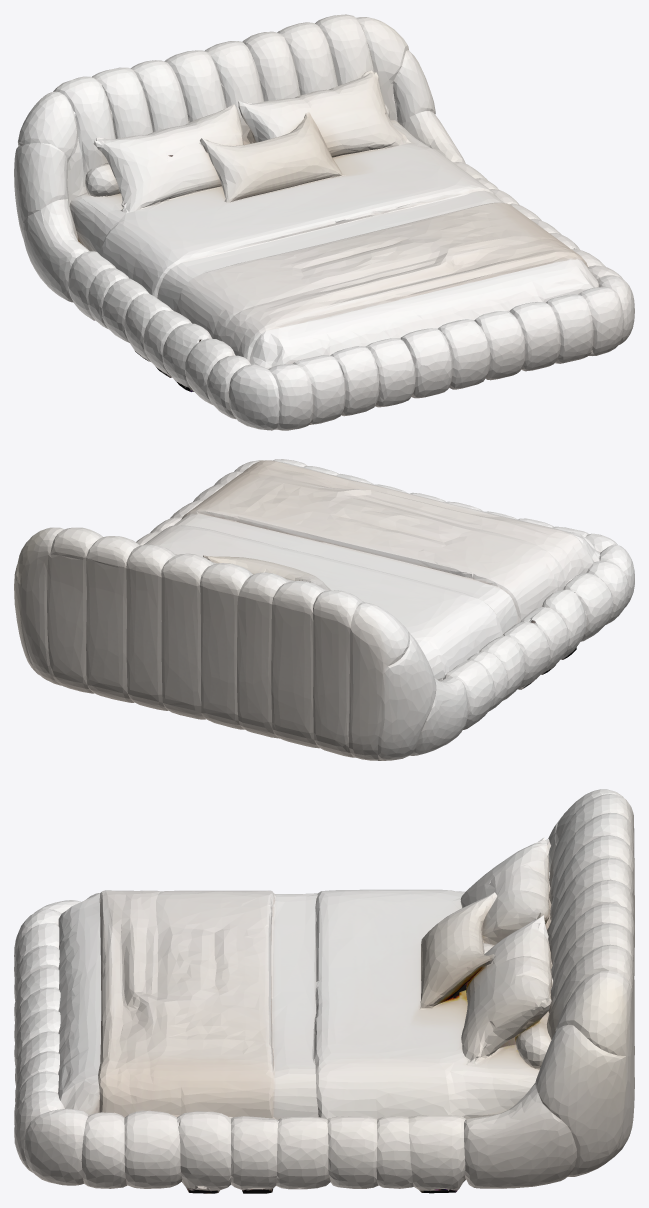
File: SALONI BASE DE CAMA.glb
3 views of the same model, one above another, from view 1: azimuth 30°, elevation 25°; view 2: azimuth 150°, elevation 25°; view 3: azimuth 270°, elevation 25° (orthographic). The views are drawn at different scales.
Parts seen in each view (by area): view 1: world; view 2: world; view 3: world.
Boxes of the visible parts, box(x1,y1,x2,y2) form: world: box(14, 14, 634, 430); world: box(14, 459, 634, 760); world: box(14, 789, 634, 1193).
Size of the model in its own units: 0.9286 by 0.3696 by 0.9995.
Materials: 1 (1 with a texture image).
